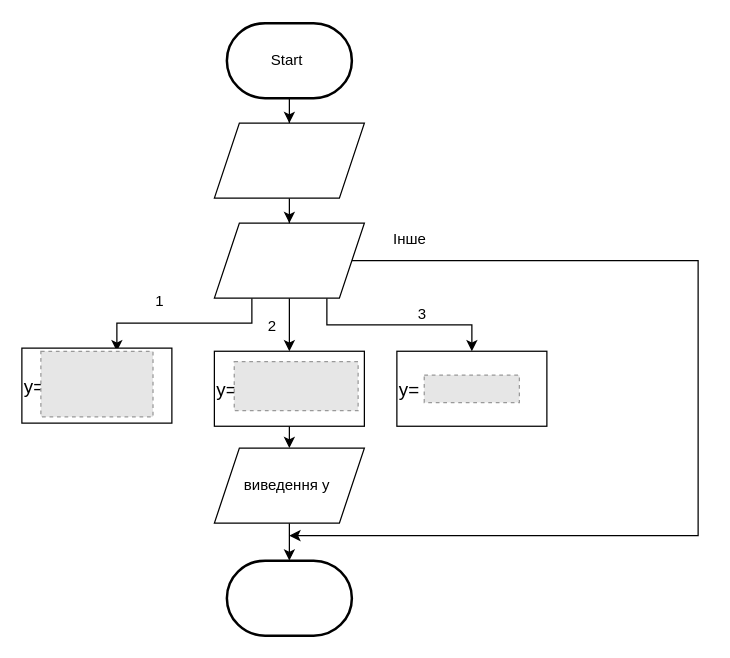
Image size: 730x658. Some labels were removed from this diagram. Grey dashed boxes stand in for pictures. Here are the shapes that lost their labels. From the top down, the box of each, then its label:
(213, 122, 364, 198): введення x,t
(213, 222, 364, 298): введення k
(225, 559, 352, 636): End
